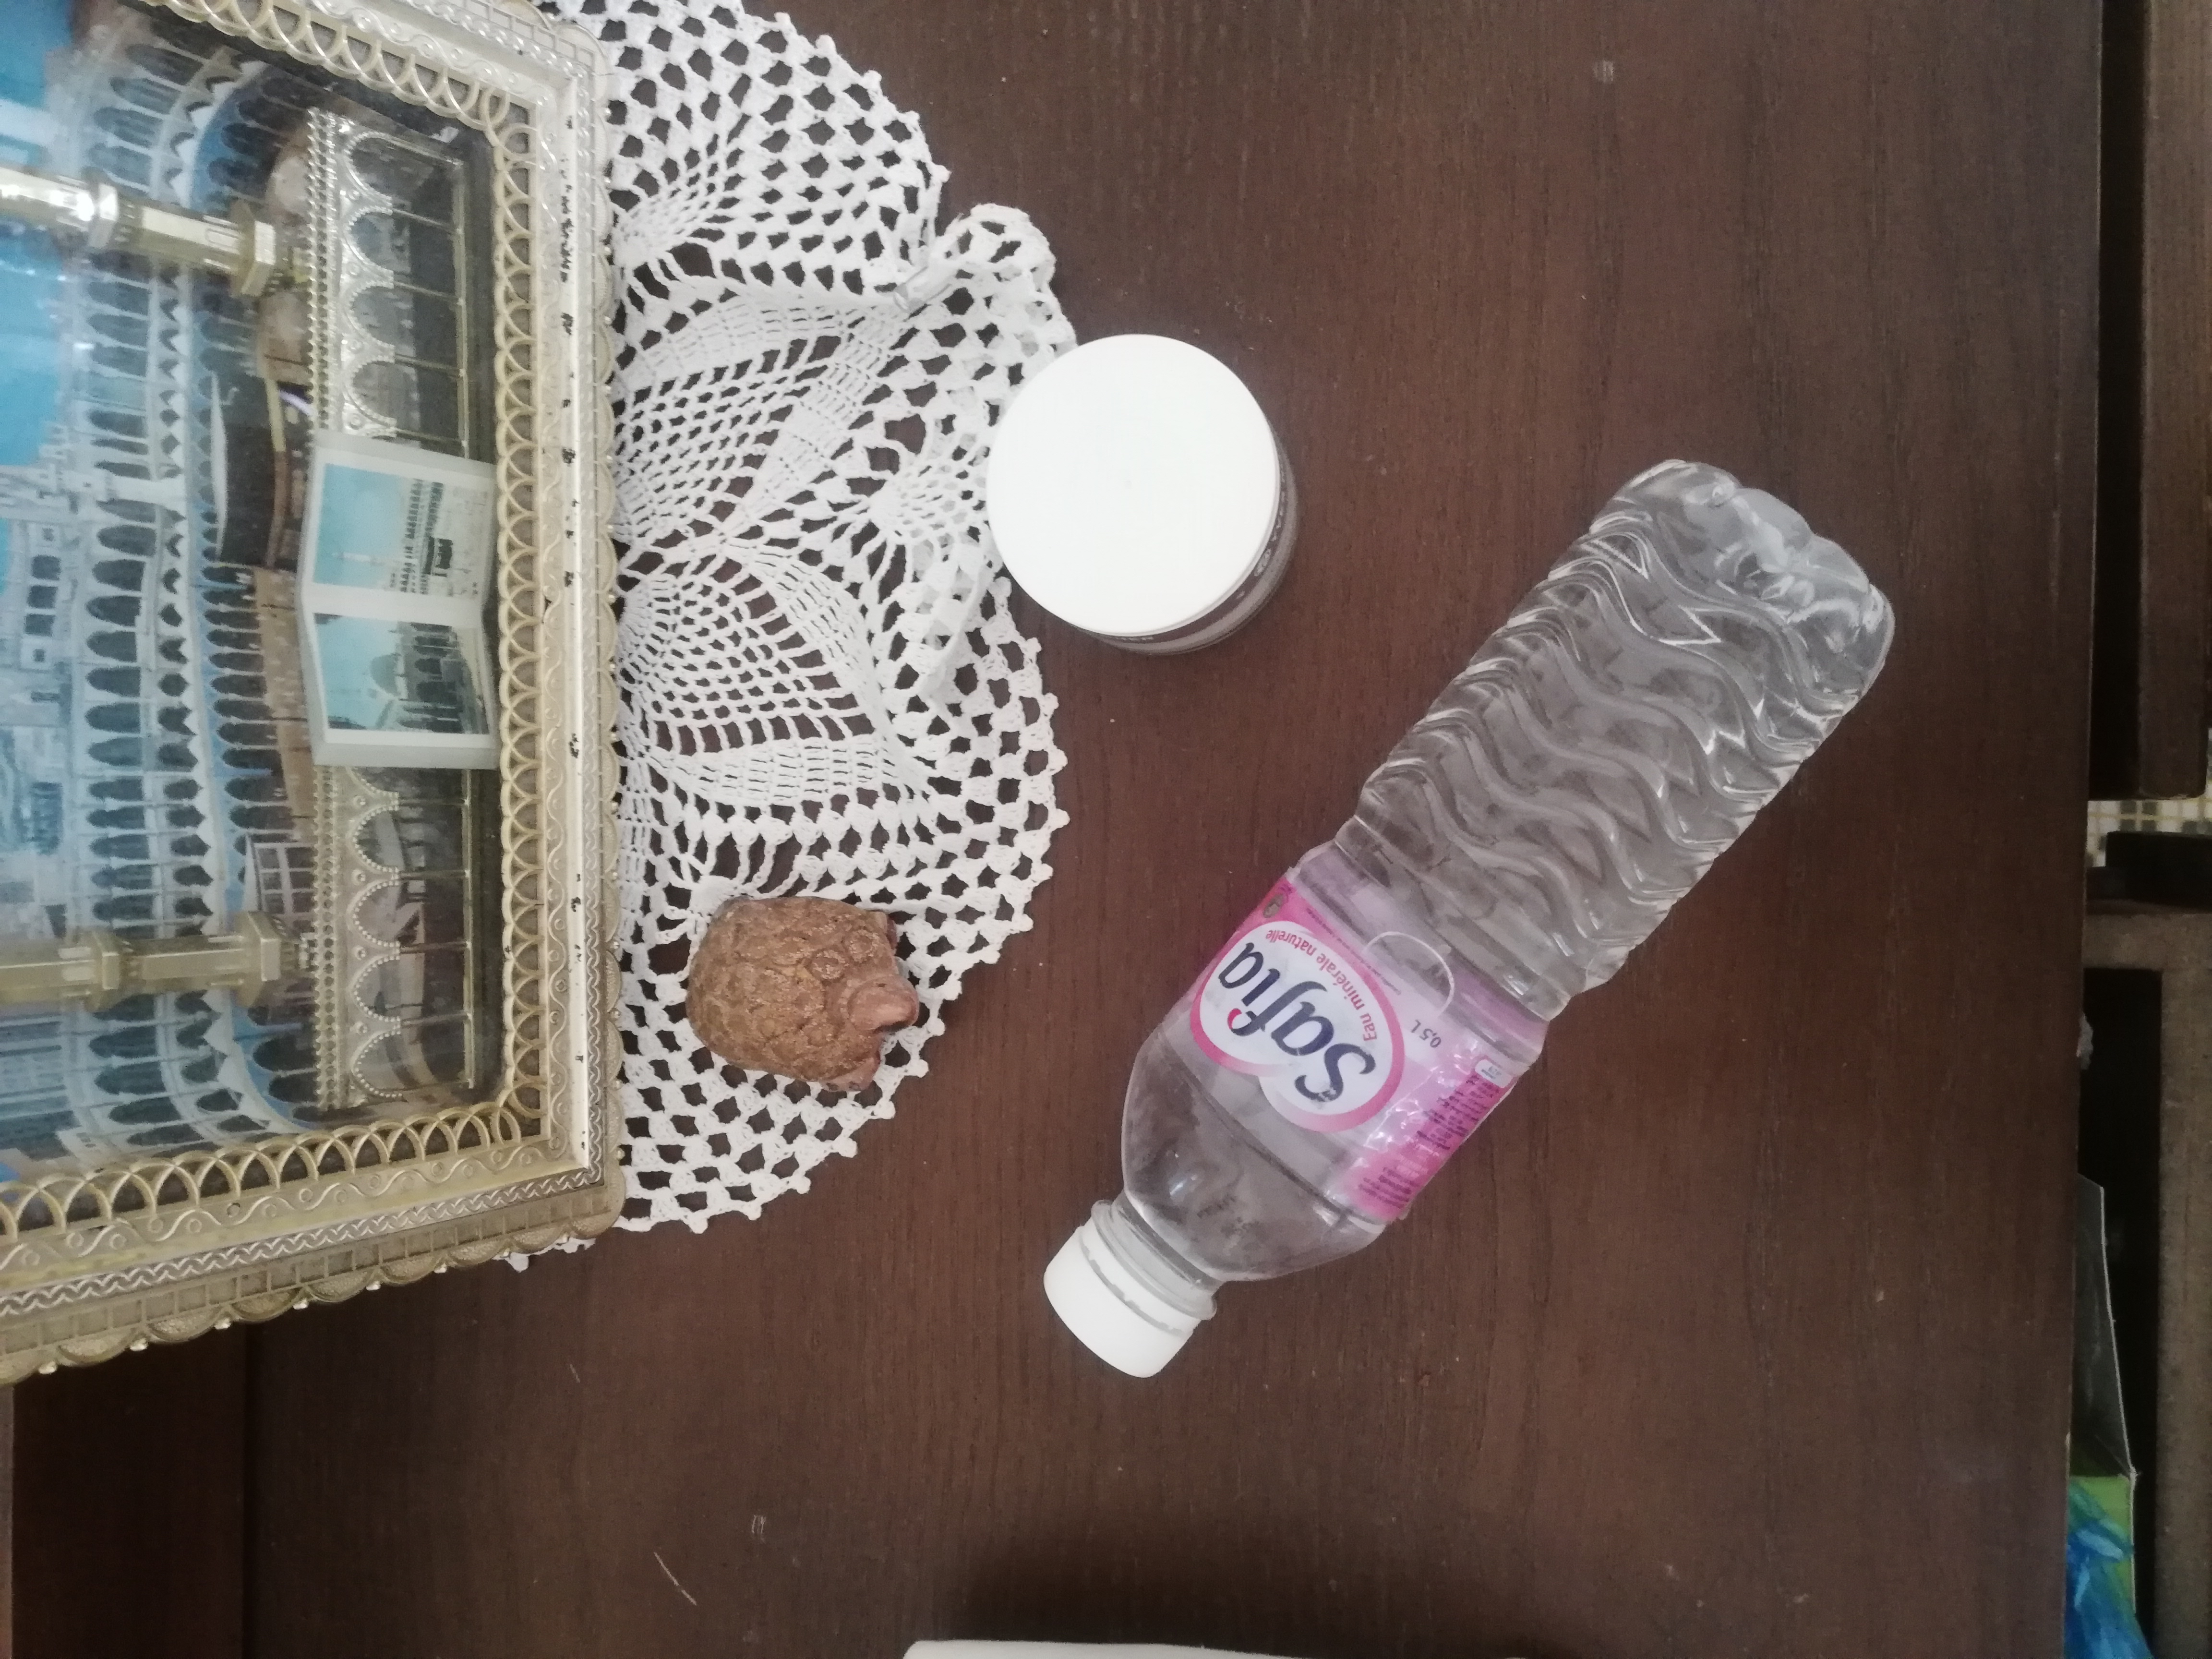Eau safia: (1038, 471, 1904, 1392)
